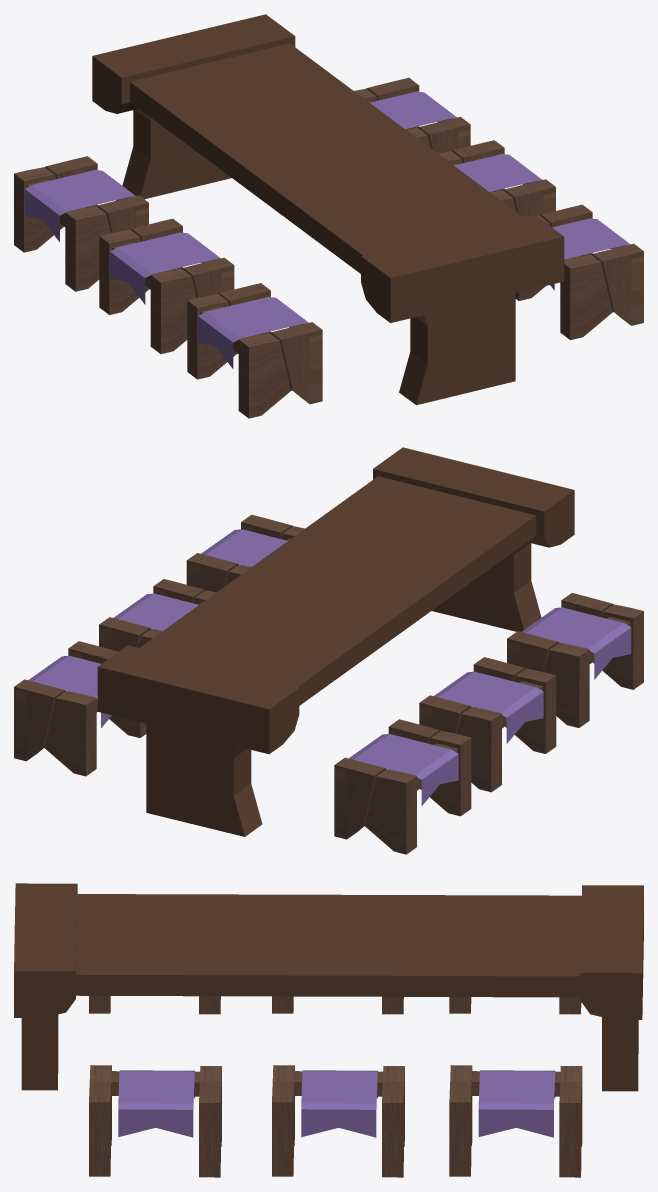
Rendered from стол и стулья.fbx.
The picture shows the model from 3 angles, top to bottom: view 1: azimuth 30°, elevation 25°; view 2: azimuth 150°, elevation 25°; view 3: azimuth 270°, elevation 25°; orthographic projection. The views are drawn at different scales.
Parts seen in each view (by area): view 1: Cube.006, Cube.008, Cube.007, Cube.030, Cube.027, Cube.028, Cube.019, Cube.029, Cube.033, Cube.035, Cube.034, Cube.036 (+1 smaller); view 2: Cube.006, Cube.027, Cube.035, Cube.008, Cube.007, Cube.029, Cube.028, Cube.019, Cube.030, Cube.033, Cube.036, Cube.032 (+1 smaller); view 3: Cube.006, Cube.035, Cube.030, Cube.033, Cube.032, Cube.034, Cube.036, Cube.008, Cube.007, Cube.027.
Boxes of the visible parts, box(x1,y1,x2,y2) form: Cube.006: box(92, 14, 564, 405); Cube.008: box(187, 283, 322, 418); Cube.007: box(99, 218, 234, 353); Cube.030: box(515, 204, 643, 339); Cube.027: box(14, 156, 148, 291); Cube.028: box(24, 170, 135, 241); Cube.019: box(110, 232, 220, 304); Cube.029: box(198, 297, 308, 368); Cube.033: box(438, 140, 555, 217); Cube.035: box(354, 77, 470, 153); Cube.034: box(454, 154, 541, 191); Cube.036: box(370, 91, 456, 129); Cube.006: box(97, 447, 574, 836); Cube.027: box(334, 719, 471, 854); Cube.035: box(14, 641, 146, 776); Cube.008: box(507, 593, 643, 727); Cube.007: box(419, 657, 556, 792); Cube.029: box(521, 607, 631, 679); Cube.028: box(349, 734, 458, 805); Cube.019: box(434, 671, 543, 743); Cube.030: box(186, 514, 304, 592); Cube.033: box(99, 579, 215, 651); Cube.036: box(28, 655, 111, 727); Cube.032: box(201, 529, 287, 566); Cube.006: box(14, 883, 643, 1091); Cube.035: box(449, 1065, 582, 1177); Cube.030: box(89, 1065, 221, 1177); Cube.033: box(272, 1065, 404, 1177); Cube.032: box(118, 1070, 194, 1137); Cube.034: box(301, 1070, 377, 1137); Cube.036: box(478, 1070, 555, 1137); Cube.008: box(89, 996, 220, 1014); Cube.007: box(272, 996, 403, 1014); Cube.027: box(449, 997, 581, 1014).
Bounding box in the file's own units: 1541 × 520 × 2023.
3 materials, 1 textured.
